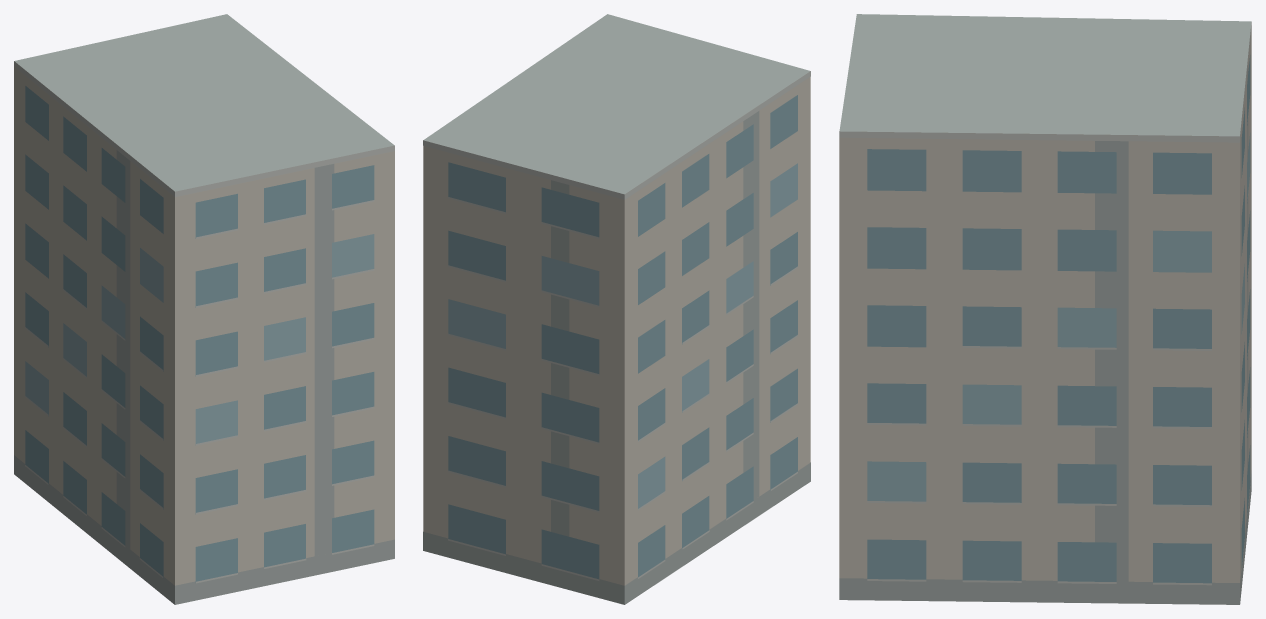
The model's file is survey-upis-32566049.glb.
The picture shows the model from 3 angles, left to right: view 1: azimuth 30°, elevation 25°; view 2: azimuth 150°, elevation 25°; view 3: azimuth 270°, elevation 25°; orthographic projection. The views are drawn at different scales.
Parts seen in each view (by area): view 1: survey-upis-32566049.tmp; view 2: survey-upis-32566049.tmp; view 3: survey-upis-32566049.tmp.
Boxes of the visible parts, left/top/right/bottom form: survey-upis-32566049.tmp: left=14, top=14, right=394, bottom=604; survey-upis-32566049.tmp: left=423, top=14, right=810, bottom=604; survey-upis-32566049.tmp: left=839, top=14, right=1251, bottom=604.
Bounding box in the file's own units: 10.26 × 18.3 × 14.6.
